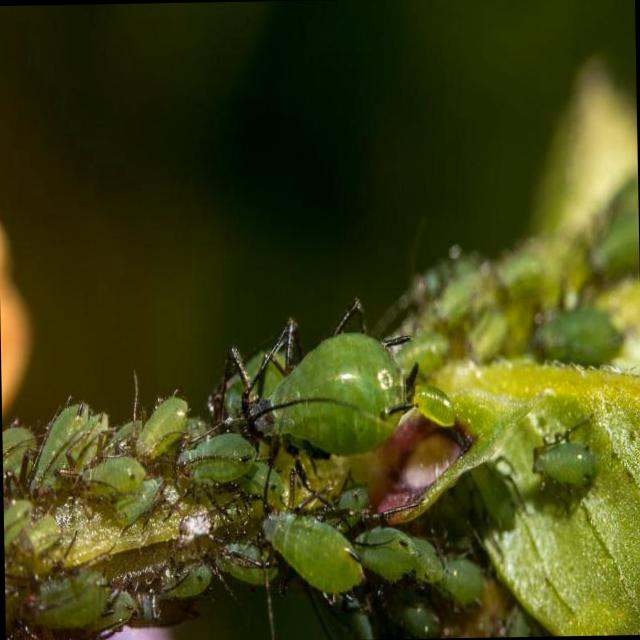aphid: (213, 310, 462, 487), (252, 481, 372, 611), (516, 415, 616, 507), (152, 428, 260, 498), (20, 562, 121, 636), (29, 391, 96, 498), (124, 385, 194, 465), (344, 522, 416, 586), (81, 460, 150, 524), (150, 563, 218, 614)
